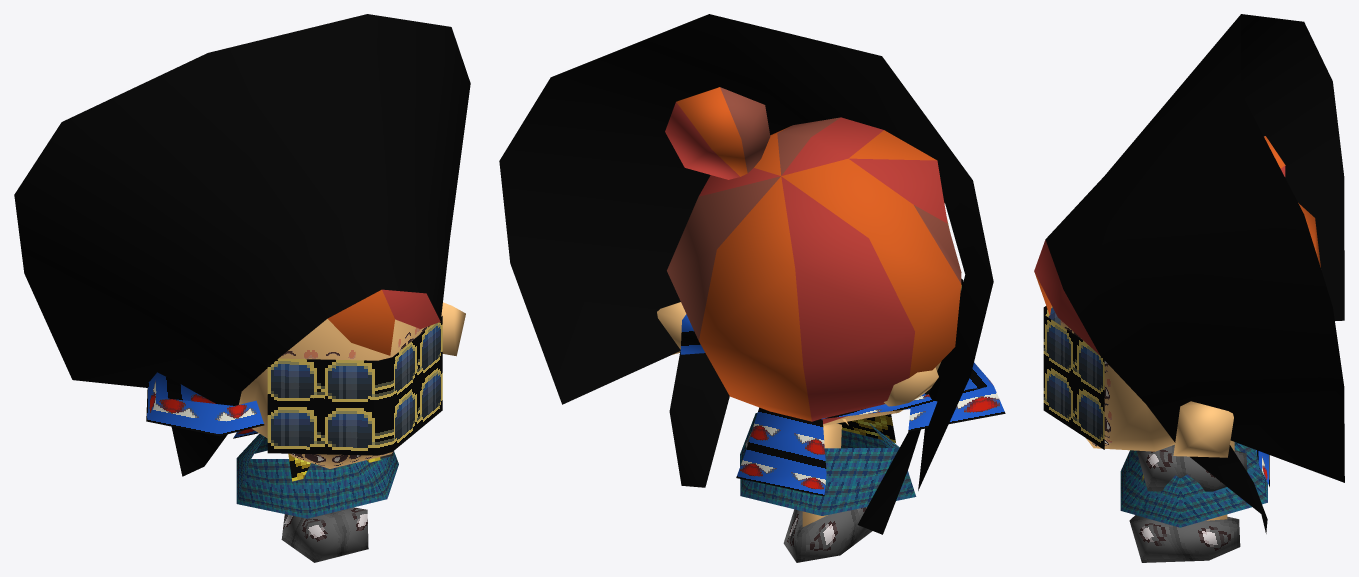
3 views of the same model, side by side, from view 1: azimuth 30°, elevation 25°; view 2: azimuth 150°, elevation 25°; view 3: azimuth 270°, elevation 25° (orthographic). The views are drawn at different scales.
Parts seen in each view (by area): view 1: pmd05_05_01; view 2: pmd05_05_01; view 3: pmd05_05_01.
Boxes of the visible parts, left/top/right/bottom form: pmd05_05_01: left=14, top=14, right=470, bottom=562; pmd05_05_01: left=499, top=14, right=1005, bottom=562; pmd05_05_01: left=1034, top=14, right=1344, bottom=562.
Size of the model in its own units: 1.7 by 1.74 by 0.9919.
Materials: 9 (9 with a texture image).
